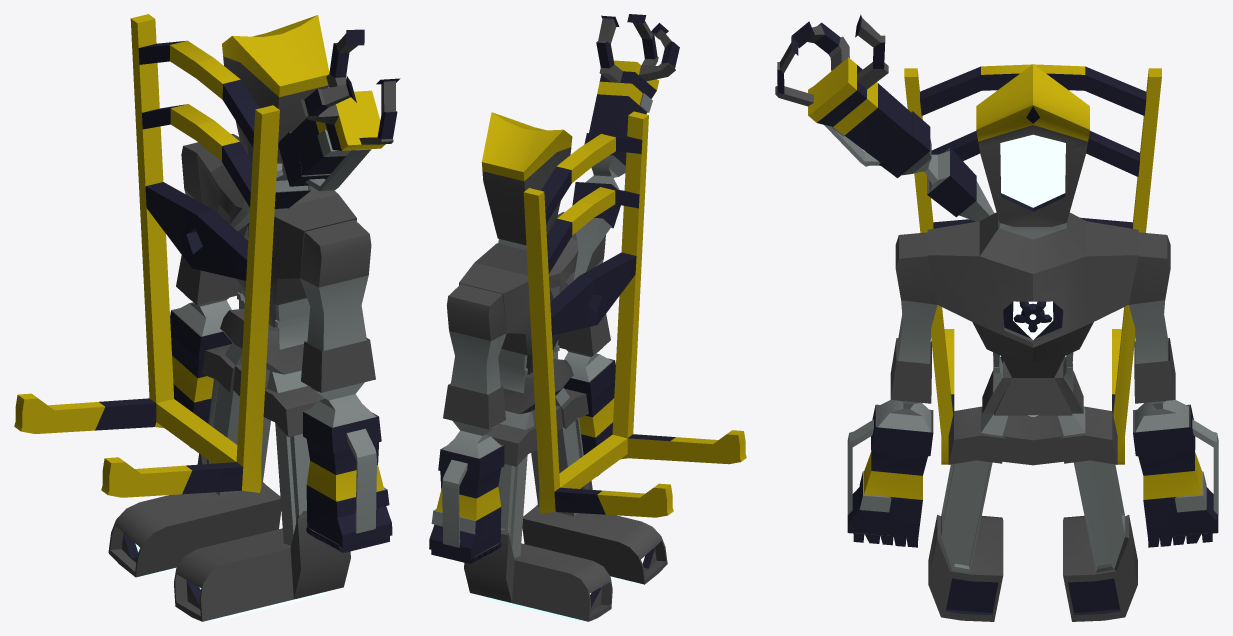
File: robot.fbx
3 renders of one model, left to right at view 1: azimuth 30°, elevation 25°; view 2: azimuth 150°, elevation 25°; view 3: azimuth 270°, elevation 25°, orthographic. The views are drawn at different scales.
Visible parts, largest first — view 1: Robot; view 2: Robot; view 3: Robot.
Boxes of the visible parts, left/top/right/bottom form: Robot: left=14, top=14, right=400, bottom=621; Robot: left=429, top=14, right=746, bottom=621; Robot: left=775, top=14, right=1218, bottom=621.
Size of the model in its own units: 113 by 246 by 166.
